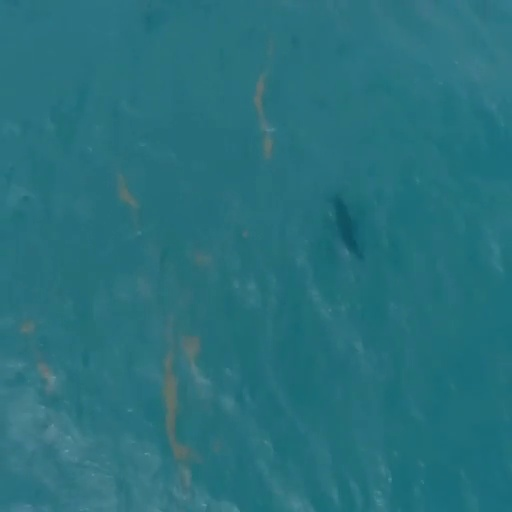shark: (327, 192, 369, 261)
